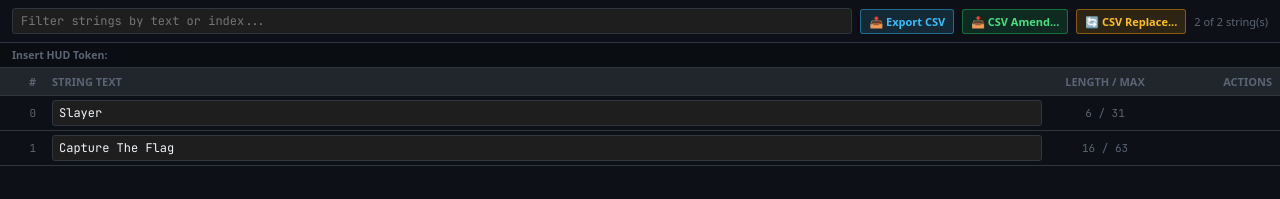
Scenario: Milestone 9 Desktop Components › UnicodeStringEditorPanel › edits string and saves via Enter key
Replace the text in the field with test id "unicode-input-0" with "Team Slayer". click: (547,113)
box: [52,100,1042,126]
Then press Enter
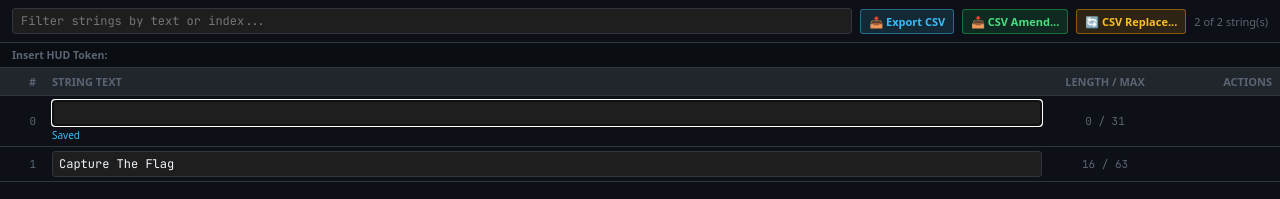
Check: the text with test id "status-tag-0" reads "Saved", box [52,128,80,142]
